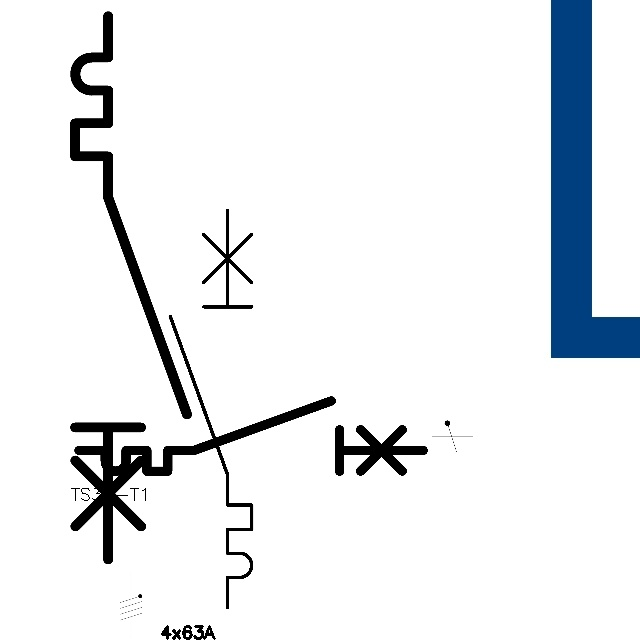interruptor_termomagnetico: (61, 2, 201, 573), (160, 200, 262, 618), (70, 392, 432, 480)
